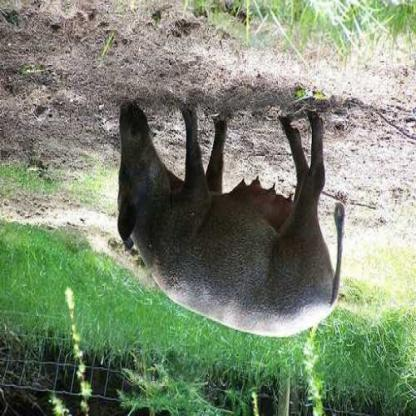boar: (99, 86, 388, 361)
